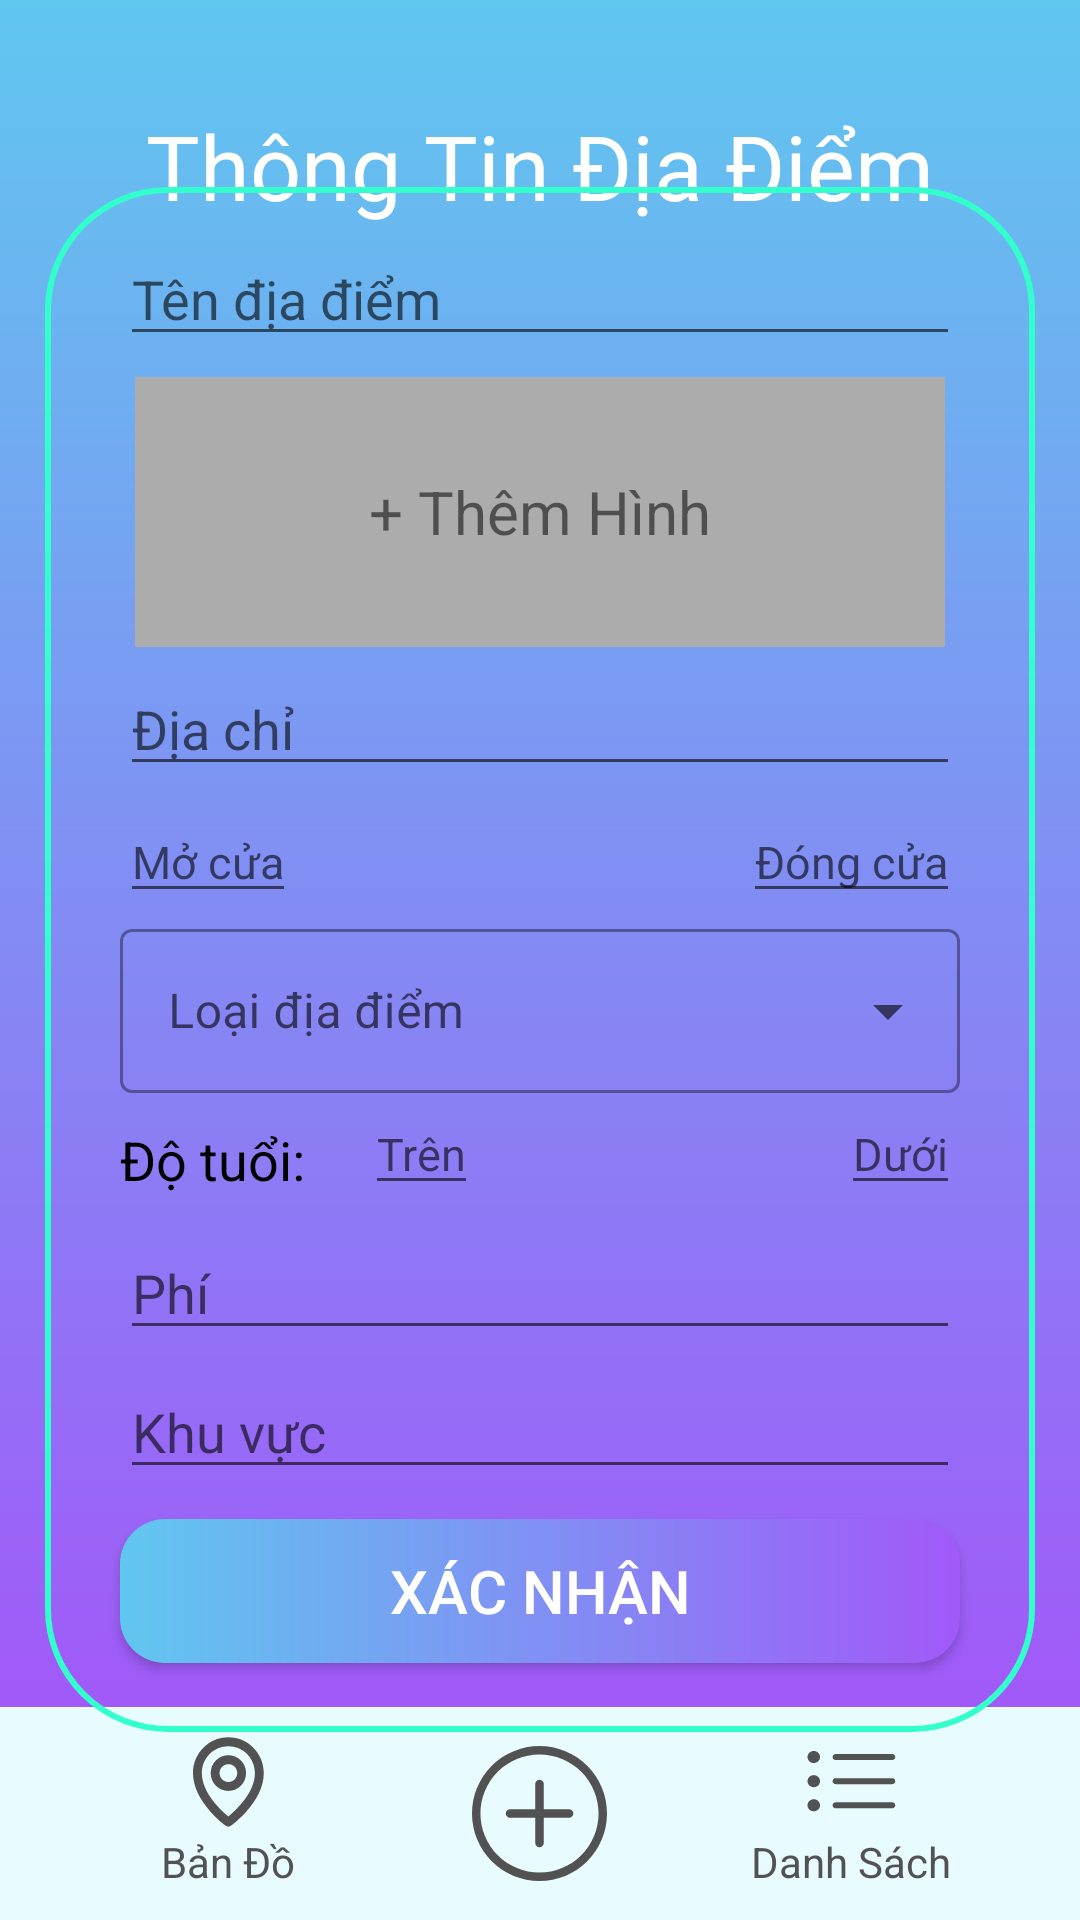

Icons on this 1080px x 1920px Android screen, each with its box as region(x1, y1, x2, y2):
plus: region(472, 1746, 607, 1881)
